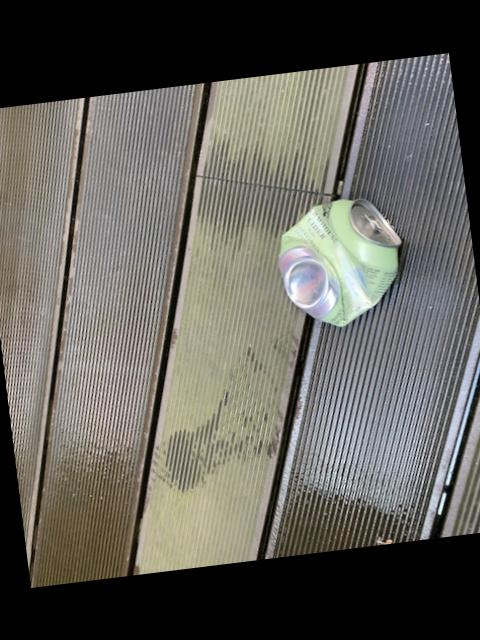metal: (278, 200, 401, 326)
